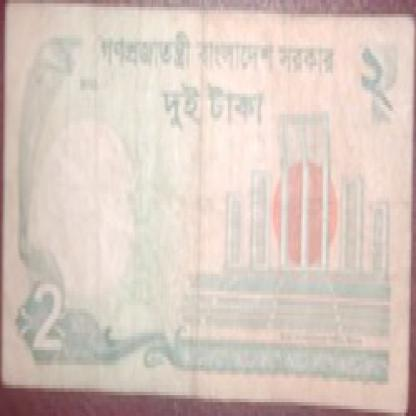two taka: (23, 284, 85, 388), (356, 35, 389, 108)
